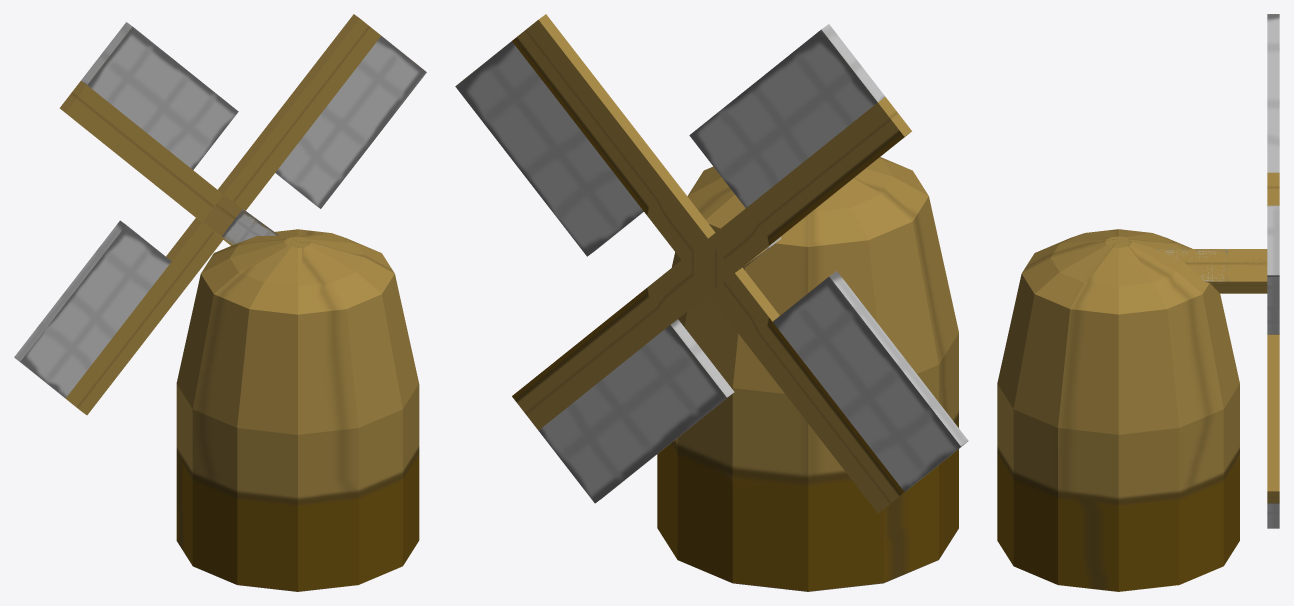
The model's file is tile_energy_windmill.fbx.
The picture shows the model from 3 angles, left to right: view 1: azimuth 30°, elevation 25°; view 2: azimuth 150°, elevation 25°; view 3: azimuth 270°, elevation 25°; orthographic projection. The views are drawn at different scales.
Visible parts, largest first — view 1: Base, Rotor; view 2: Rotor, Base; view 3: Base, Rotor.
Part boxes in pixels (x1,y1,x2,y2): Base: [176, 229, 419, 591]; Rotor: [14, 14, 426, 415]; Rotor: [455, 14, 968, 512]; Base: [657, 157, 958, 591]; Base: [997, 229, 1239, 591]; Rotor: [1156, 14, 1279, 528].
Bounding box in the file's own units: 1.9 × 2.15 × 1.14.
1 material, 1 textured.
